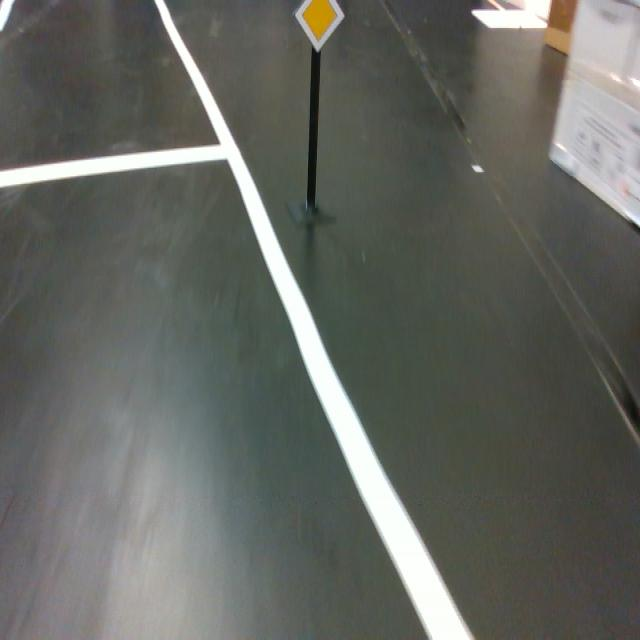priority-sign: (294, 0, 346, 53)
